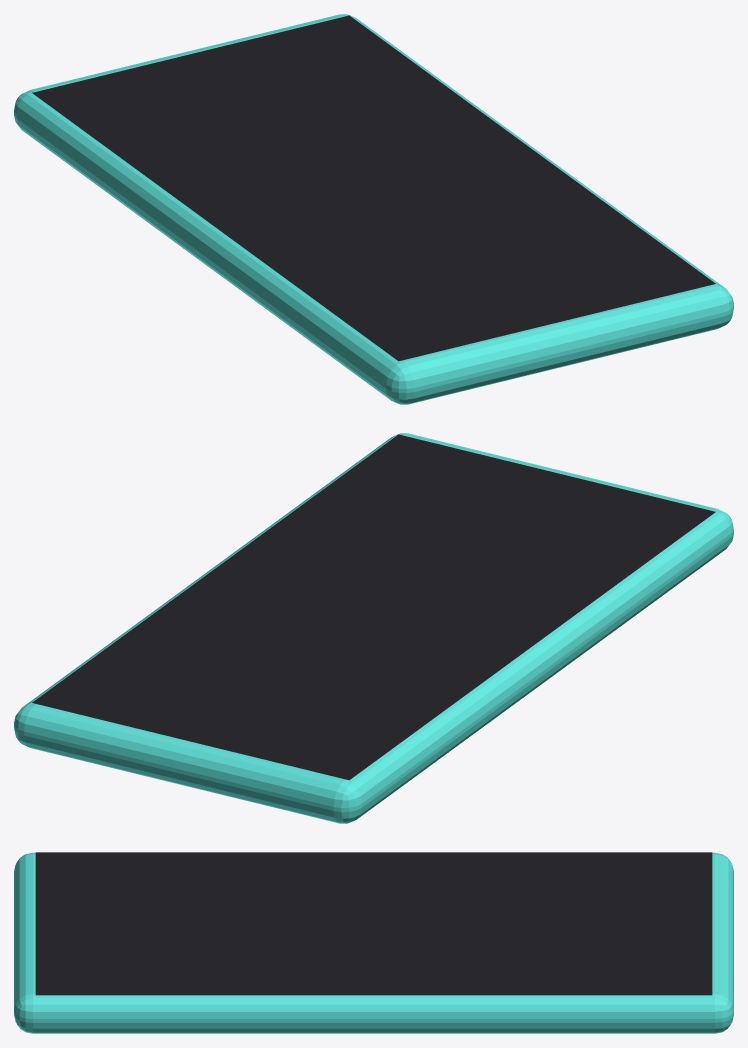
The model's file is motorola-moto-g-model-143-mid-range-2026.glb.
3 renders of one model, top to bottom at view 1: azimuth 30°, elevation 25°; view 2: azimuth 150°, elevation 25°; view 3: azimuth 270°, elevation 25°, orthographic. The views are drawn at different scales.
Parts seen in each view (by area): view 1: Phone_Screen, Phone_Body; view 2: Phone_Screen, Phone_Body; view 3: Phone_Screen, Phone_Body.
Boxes of the visible parts, x1=… form: Phone_Screen: x1=32, y1=15, x2=715, y2=361; Phone_Body: x1=14, y1=14, x2=733, y2=404; Phone_Screen: x1=32, y1=434, x2=715, y2=780; Phone_Body: x1=14, y1=433, x2=733, y2=823; Phone_Screen: x1=35, y1=852, x2=712, y2=995; Phone_Body: x1=14, y1=852, x2=733, y2=1033.
Size of the model in its own units: 0.0736 by 0.0085 by 0.1441.
